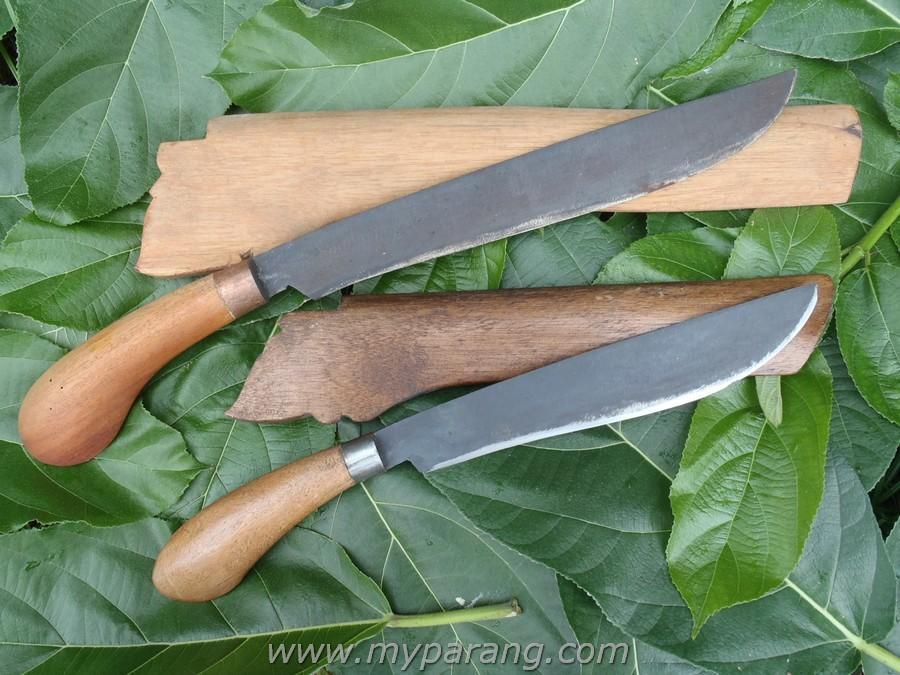facao: (20, 74, 794, 465), (154, 283, 818, 600)
